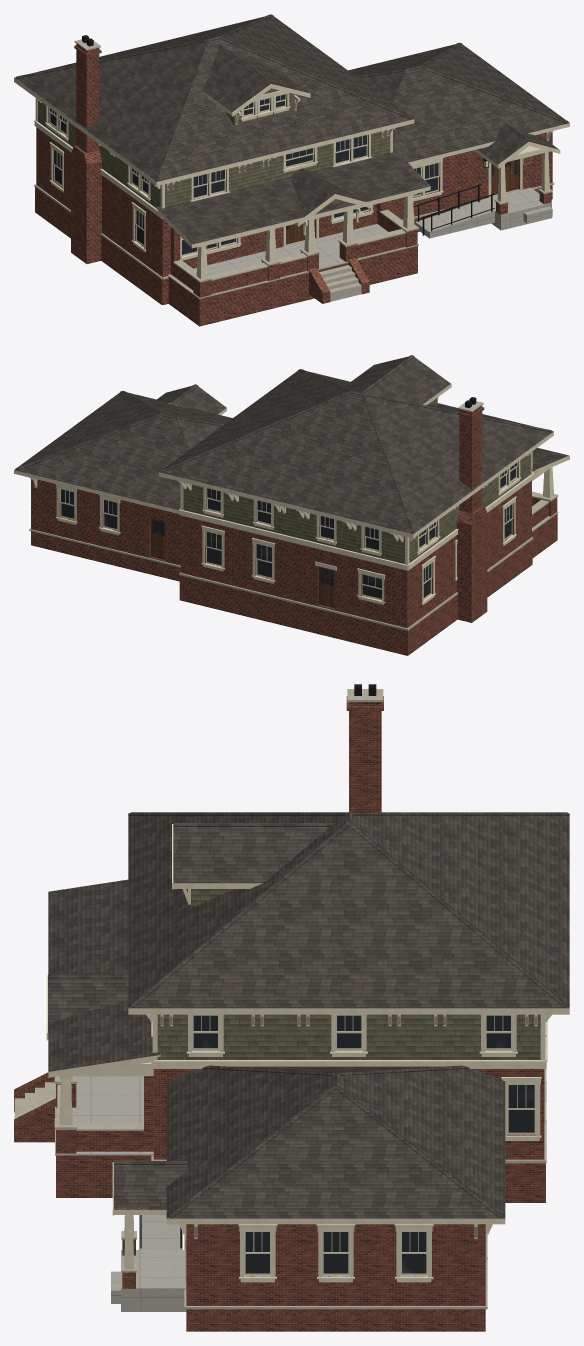
Rendered from patel-house.glb.
The picture shows the model from 3 angles, top to bottom: view 1: azimuth 30°, elevation 25°; view 2: azimuth 150°, elevation 25°; view 3: azimuth 270°, elevation 25°; orthographic projection. The views are drawn at different scales.
Visible parts, largest first — view 1: Roof, House, Porch; view 2: House, Roof, Porch; view 3: Roof, House, Porch.
Boxes of the visible parts, bbox=[...] form: Roof: bbox=[14, 14, 569, 248]; House: bbox=[34, 35, 554, 304]; Porch: bbox=[167, 146, 552, 326]; House: bbox=[29, 397, 533, 655]; Roof: bbox=[14, 355, 569, 538]; Porch: bbox=[172, 403, 558, 557]; Roof: bbox=[46, 812, 569, 1224]; House: bbox=[146, 684, 551, 1331]; Porch: bbox=[14, 1062, 186, 1311].
Bounding box in the file's own units: 23.45 × 11.45 × 17.08.
13 materials, 8 textured.
